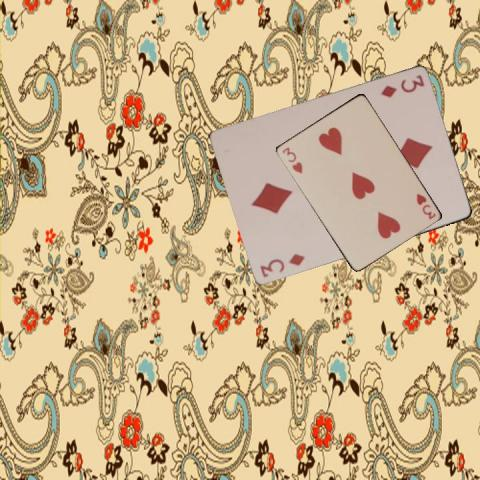3d: (257, 251, 306, 279), (377, 72, 426, 99)
3h: (280, 144, 304, 175), (413, 190, 437, 221)
